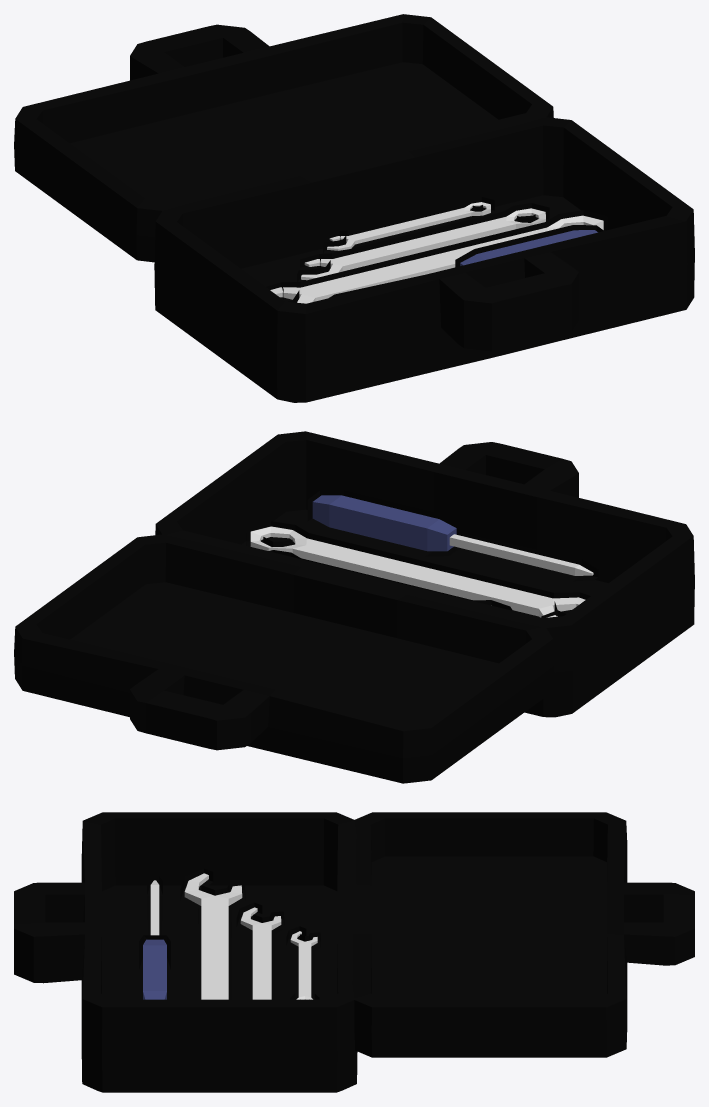
File: cajitaHerramientas.fbx
3 views of the same model, one above another, from view 1: azimuth 30°, elevation 25°; view 2: azimuth 150°, elevation 25°; view 3: azimuth 270°, elevation 25° (orthographic). The views are drawn at different scales.
Visible parts, largest first — view 1: Cube.088, Cube.084, Cube.083, Cube.082, Cube.081; view 2: Cube.088, Cube.081, Cube.084, Cube.083; view 3: Cube.088, Cube.084, Cube.081, Cube.083, Cube.082.
Boxes of the visible parts, left/top/right/bottom form: Cube.088: left=14, top=14, right=694, bottom=402; Cube.084: left=266, top=210, right=607, bottom=303; Cube.083: left=297, top=203, right=549, bottom=281; Cube.082: left=323, top=196, right=494, bottom=253; Cube.081: left=329, top=225, right=603, bottom=297; Cube.088: left=14, top=431, right=694, bottom=783; Cube.081: left=307, top=490, right=598, bottom=581; Cube.084: left=246, top=521, right=590, bottom=617; Cube.083: left=268, top=550, right=512, bottom=610; Cube.088: left=14, top=812, right=694, bottom=1092; Cube.084: left=180, top=868, right=245, bottom=999; Cube.081: left=139, top=876, right=170, bottom=999; Cube.083: left=236, top=902, right=284, bottom=999; Cube.082: left=286, top=926, right=320, bottom=999.
Bounding box in the file's own units: 84.01 × 19.72 × 123.
